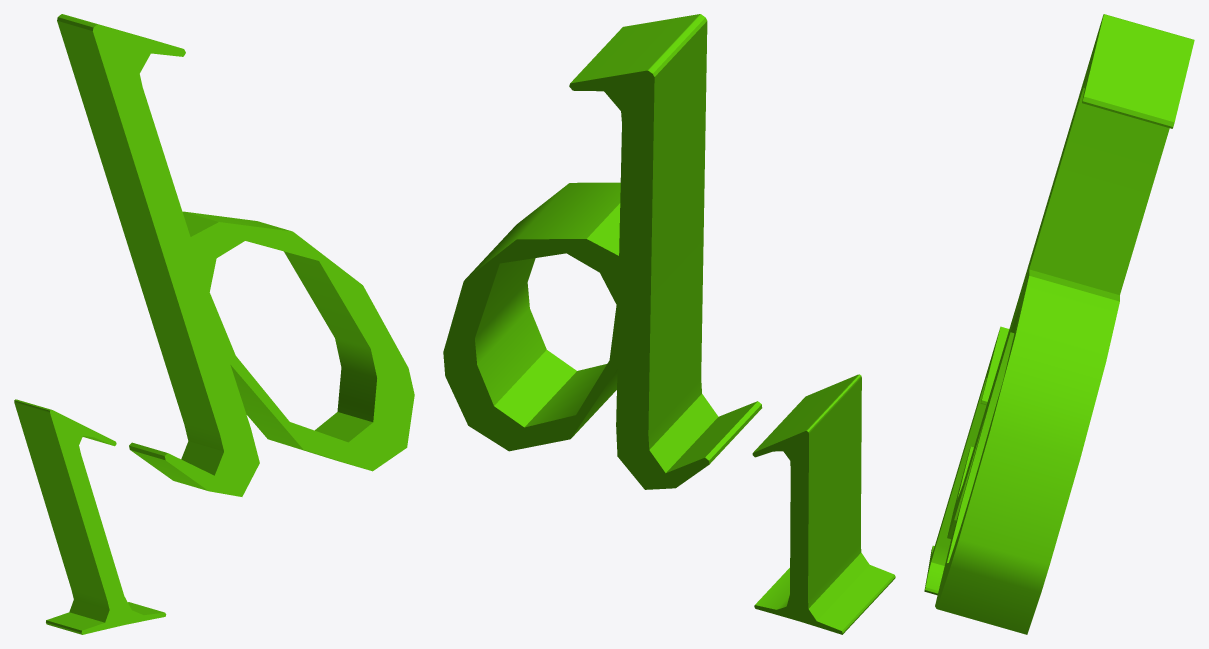
The model's file is d1_formula_C.fbx.
3 renders of one model, left to right at view 1: azimuth 30°, elevation 25°; view 2: azimuth 150°, elevation 25°; view 3: azimuth 270°, elevation 25°, orthographic. The views are drawn at different scales.
Parts seen in each view (by area): view 1: d1_formula_C; view 2: d1_formula_C; view 3: d1_formula_C.
Part boxes in pixels (x1,y1,x2,y2): d1_formula_C: (14,14,414,634); d1_formula_C: (443,14,895,634); d1_formula_C: (924,14,1194,634).
Bounding box in the file's own units: 2.11 × 3.2 × 1.29.
